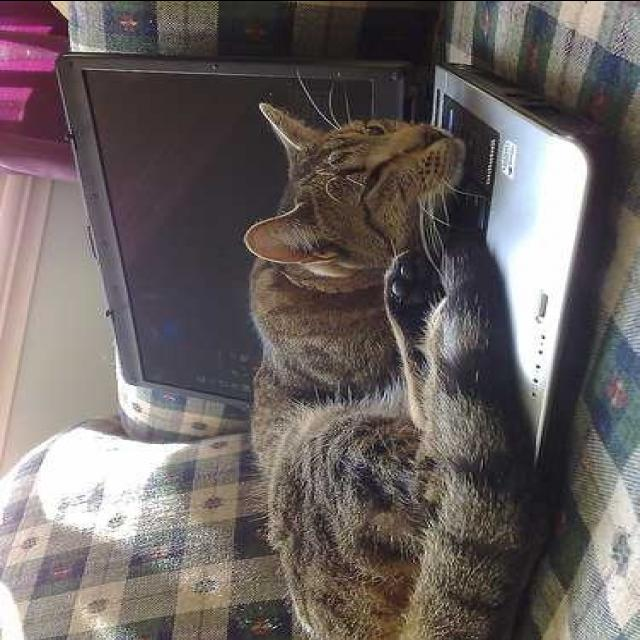laptop: (58, 44, 576, 524)
